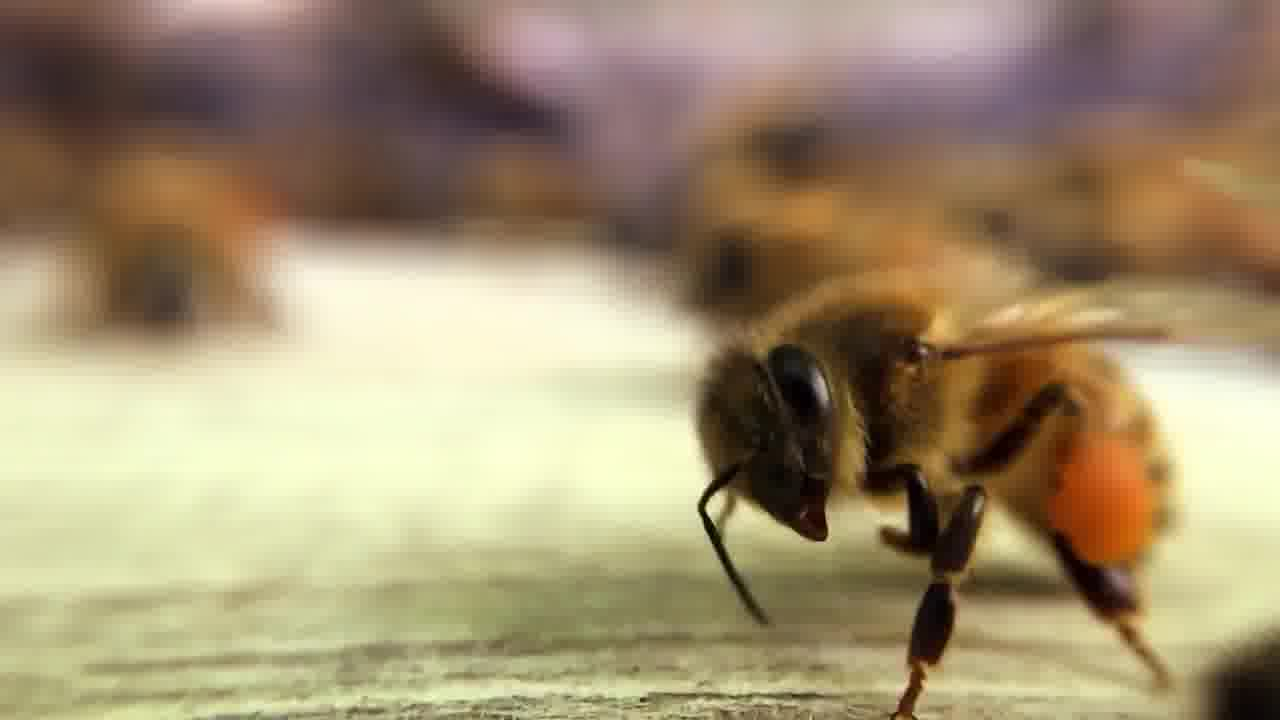pollen: (614, 239, 1233, 689)
